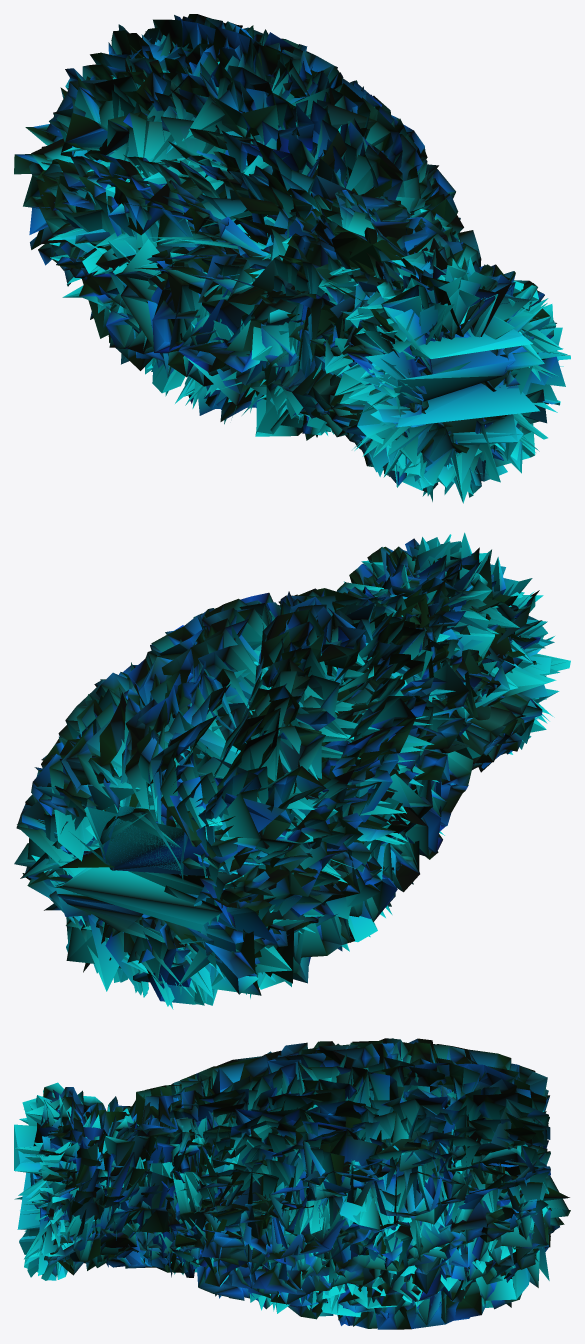
The model's file is lamp_shade_10_final400.obj.
3 views of the same model, one above another, from view 1: azimuth 30°, elevation 25°; view 2: azimuth 150°, elevation 25°; view 3: azimuth 270°, elevation 25° (orthographic). The views are drawn at different scales.
Size of the model in its own units: 1.03 by 1.03 by 1.98.
